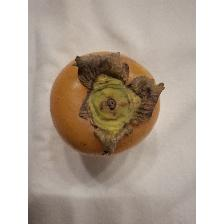Kaki: (48, 48, 168, 160)
